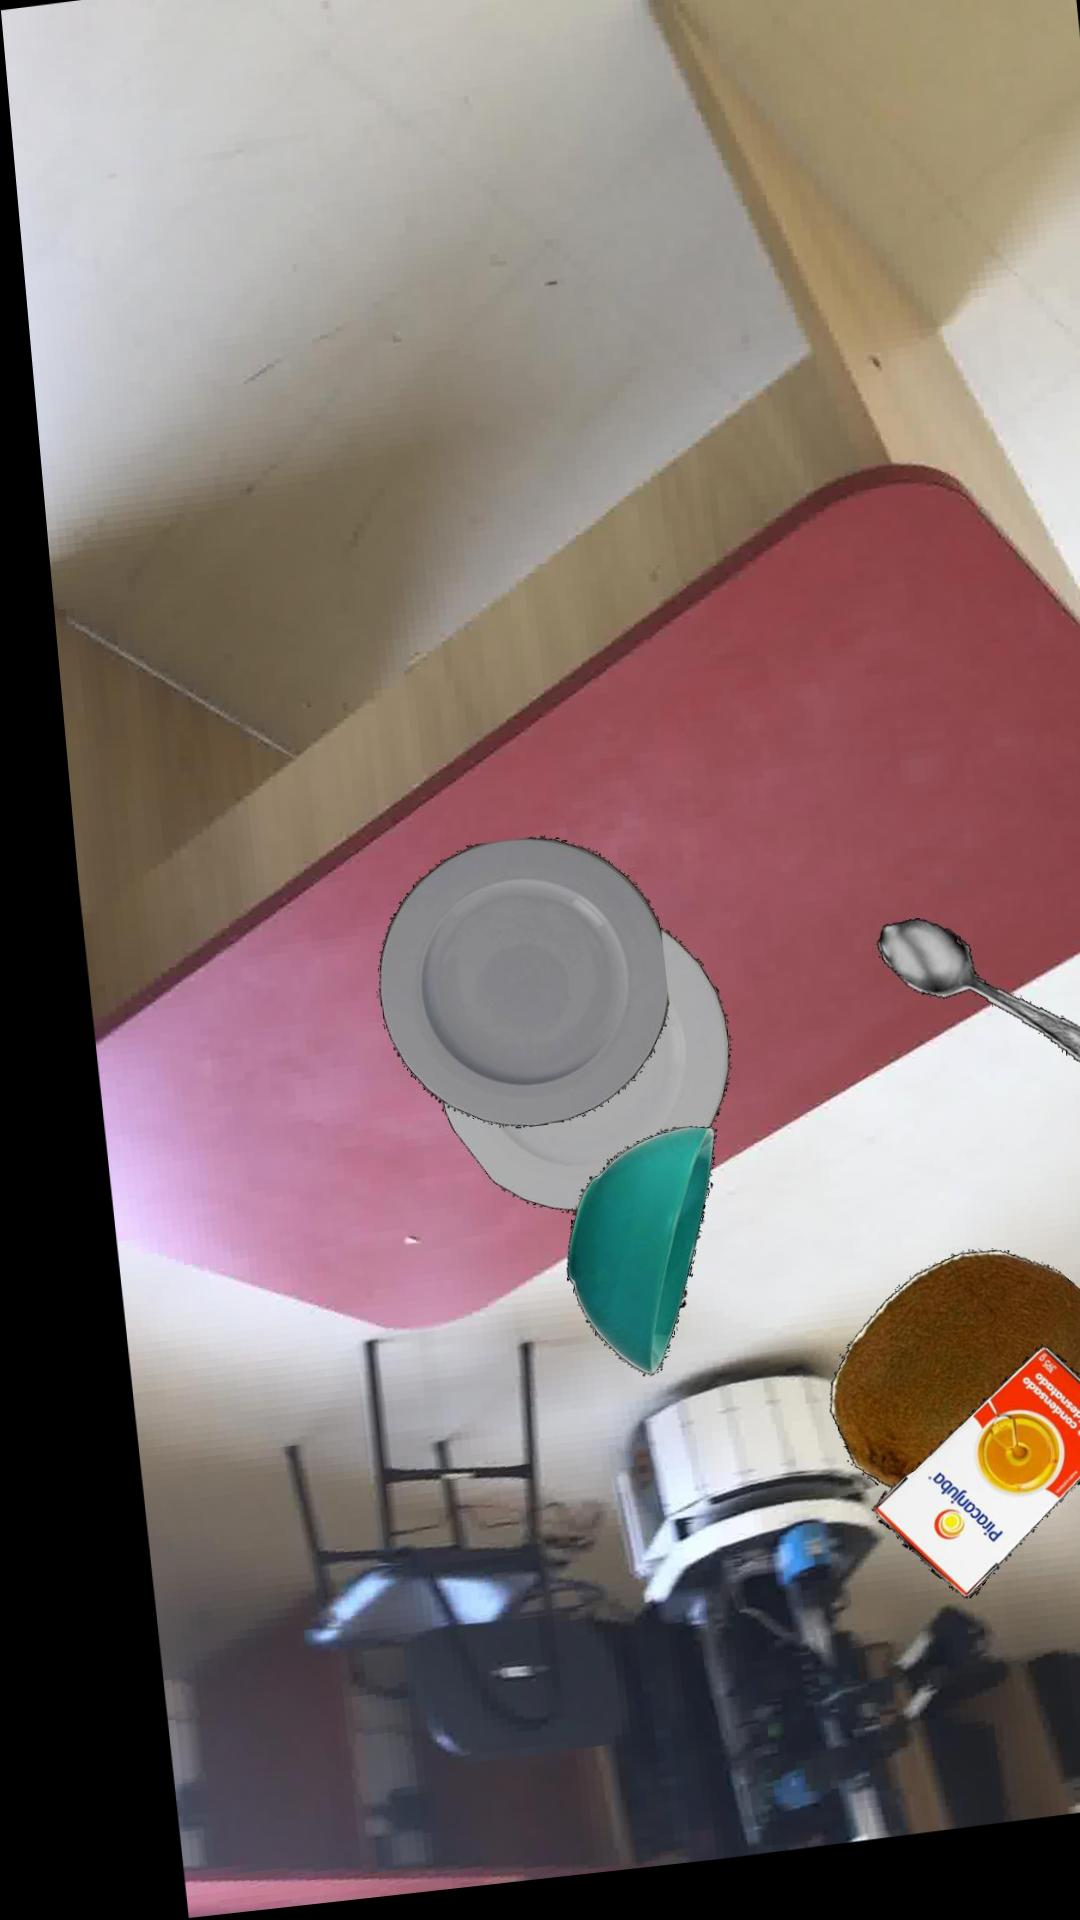bowl: (539, 1141, 690, 1389)
kiwi: (799, 1271, 1079, 1507)
plate: (357, 848, 646, 1138), (418, 942, 707, 1225)
spoon: (855, 939, 1080, 1106)
